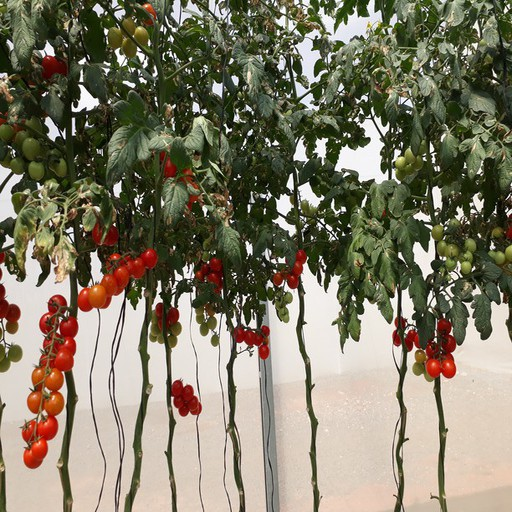green tomato bunch: (1, 125, 70, 176), (433, 218, 476, 273), (107, 18, 152, 54), (392, 139, 428, 180)
mixed tomato bunch: (149, 304, 180, 347), (486, 222, 512, 270)
red tomato bunch: (23, 294, 78, 467), (78, 247, 160, 313), (392, 314, 455, 378), (158, 153, 200, 217), (69, 202, 121, 247), (25, 54, 72, 92), (272, 247, 305, 289), (196, 258, 225, 305), (1, 252, 21, 319), (234, 326, 270, 356), (170, 381, 201, 415)
